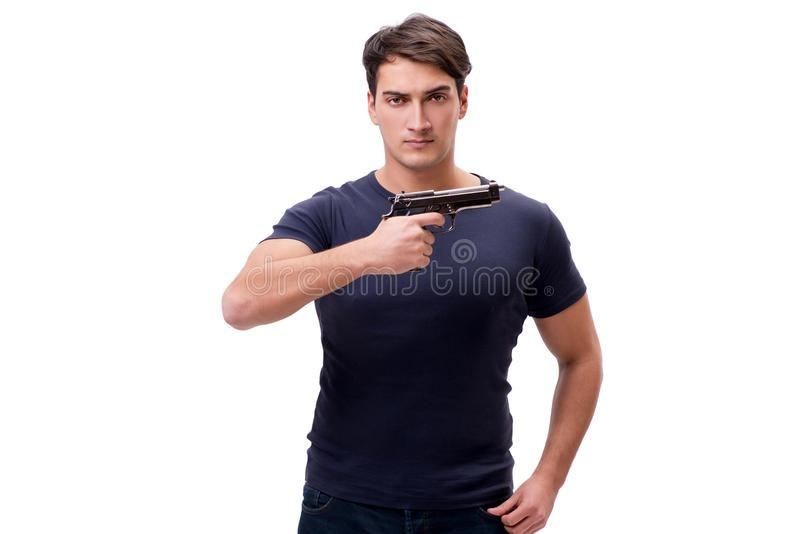criminal: (219, 12, 604, 534)
weapon: (379, 178, 506, 228)
